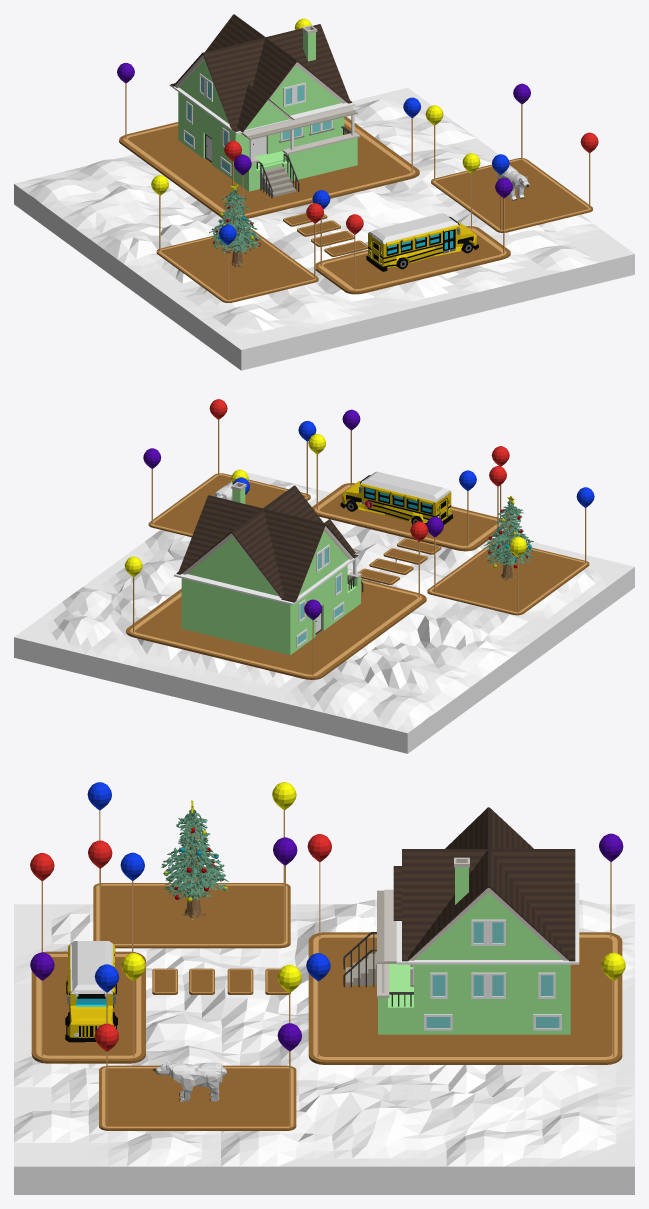
3 renders of one model, top to bottom at view 1: azimuth 30°, elevation 25°; view 2: azimuth 150°, elevation 25°; view 3: azimuth 270°, elevation 25°, orthographic. The views are drawn at different scales.
Visible parts, largest first — view 1: Cube.013, Cube.274, VEHICLES_SCHOOL_BUS, OBJRANDOM_CHRISTMAS_TREE, ANIMAL_OSO_POLAR; view 2: Cube.013, Cube.274, VEHICLES_SCHOOL_BUS, OBJRANDOM_CHRISTMAS_TREE; view 3: Cube.013, Cube.274, VEHICLES_SCHOOL_BUS, OBJRANDOM_CHRISTMAS_TREE, ANIMAL_OSO_POLAR.
Boxes of the visible parts, box(x1,y1,x2,y2) form: Cube.013: box(14, 18, 634, 370); Cube.274: box(169, 14, 360, 198); VEHICLES_SCHOOL_BUS: box(366, 213, 478, 271); OBJRANDOM_CHRISTMAS_TREE: box(209, 183, 261, 267); ANIMAL_OSO_POLAR: box(497, 165, 529, 200); Cube.013: box(14, 399, 634, 753); Cube.274: box(174, 482, 363, 655); VEHICLES_SCHOOL_BUS: box(340, 471, 452, 524); OBJRANDOM_CHRISTMAS_TREE: box(484, 495, 534, 580); Cube.013: box(14, 782, 634, 1194); Cube.274: box(343, 807, 579, 1034); VEHICLES_SCHOOL_BUS: box(65, 941, 117, 1042); OBJRANDOM_CHRISTMAS_TREE: box(161, 800, 228, 919); ANIMAL_OSO_POLAR: box(153, 1060, 226, 1101).
Size of the model in its own units: 4000 by 1638 by 4000.
Materials: 38 (2 with a texture image).
